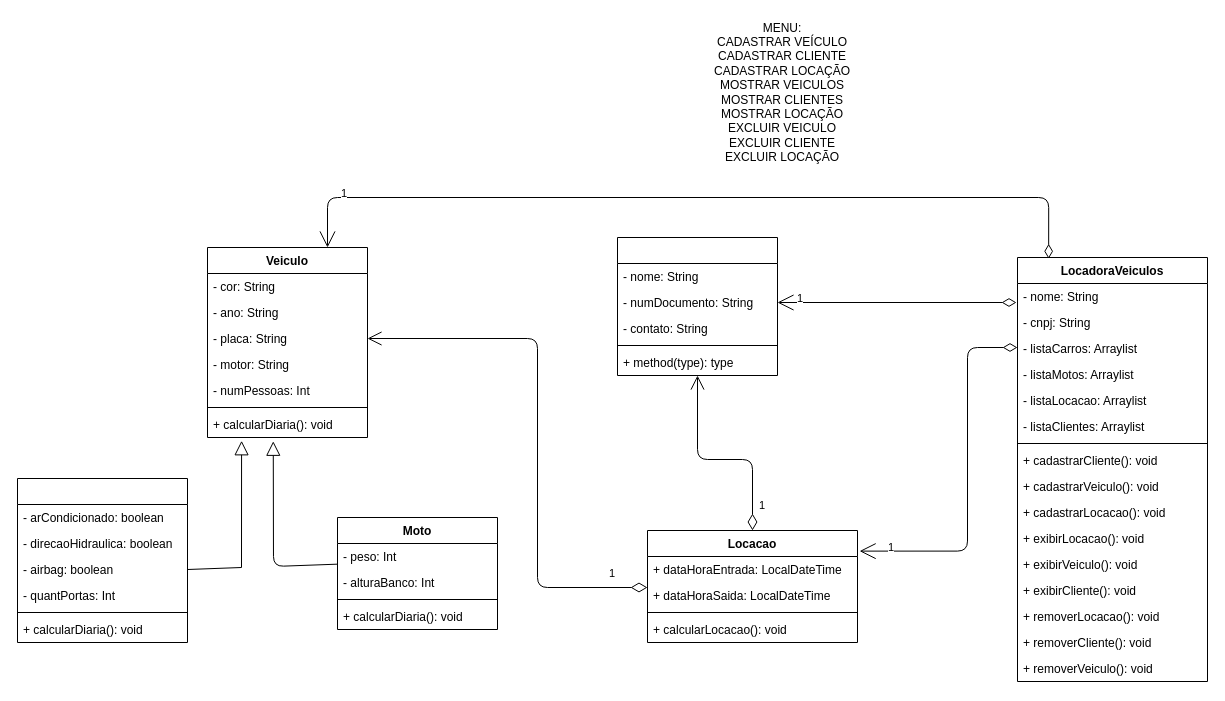
Some shapes in this 1225 by 701 pixel diagram are drawn without their labels. The box of each missing label's shape, as (x1, y1, x2, y2) in pixels:
Carro: (16, 478, 188, 642)
Cliente: (616, 236, 778, 376)
